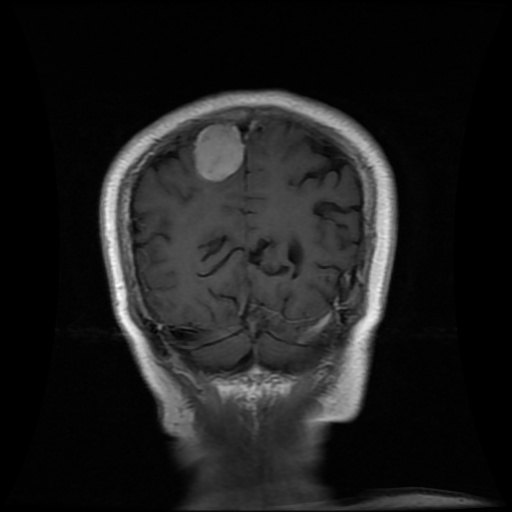meningioma: (193, 122, 245, 181)
